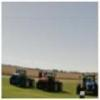tractors: (36, 68, 64, 92), (9, 68, 36, 90), (76, 74, 98, 98)
